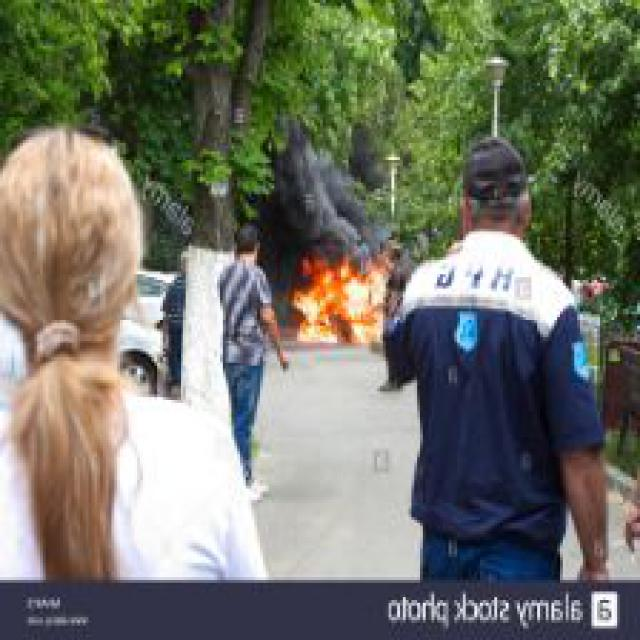fire: (288, 226, 386, 354)
